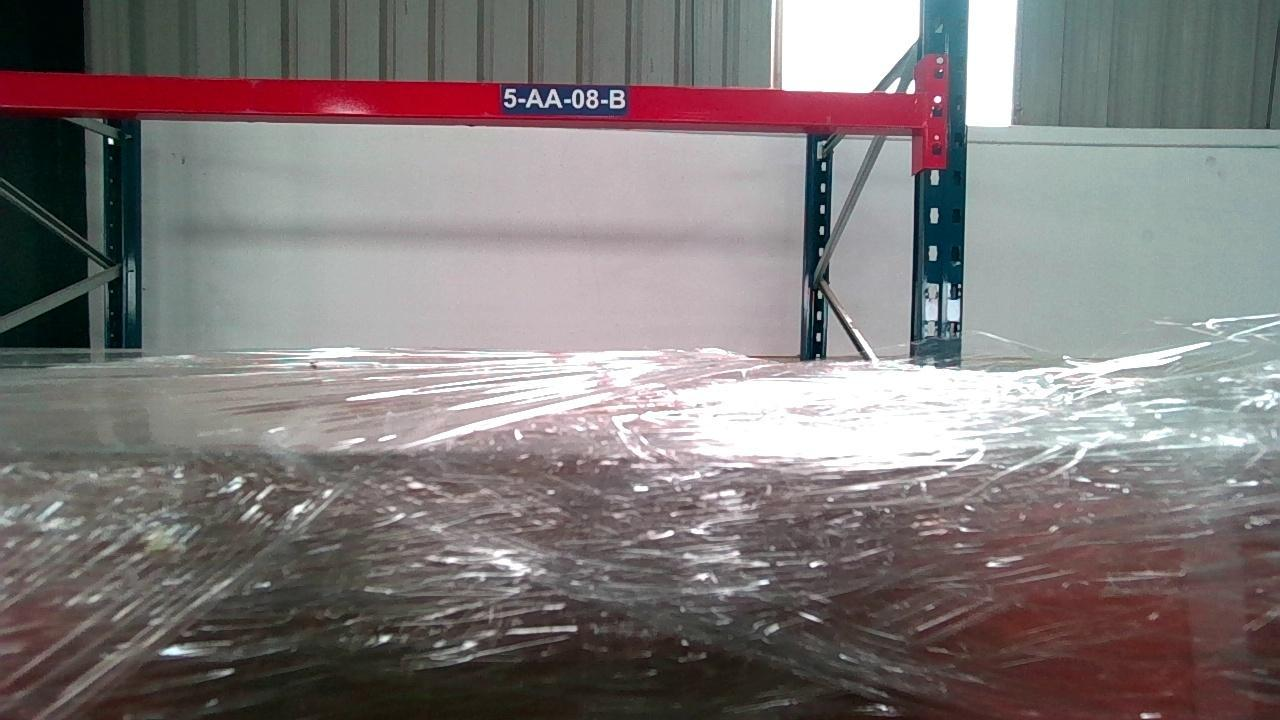h_rack: (0, 72, 922, 125)
